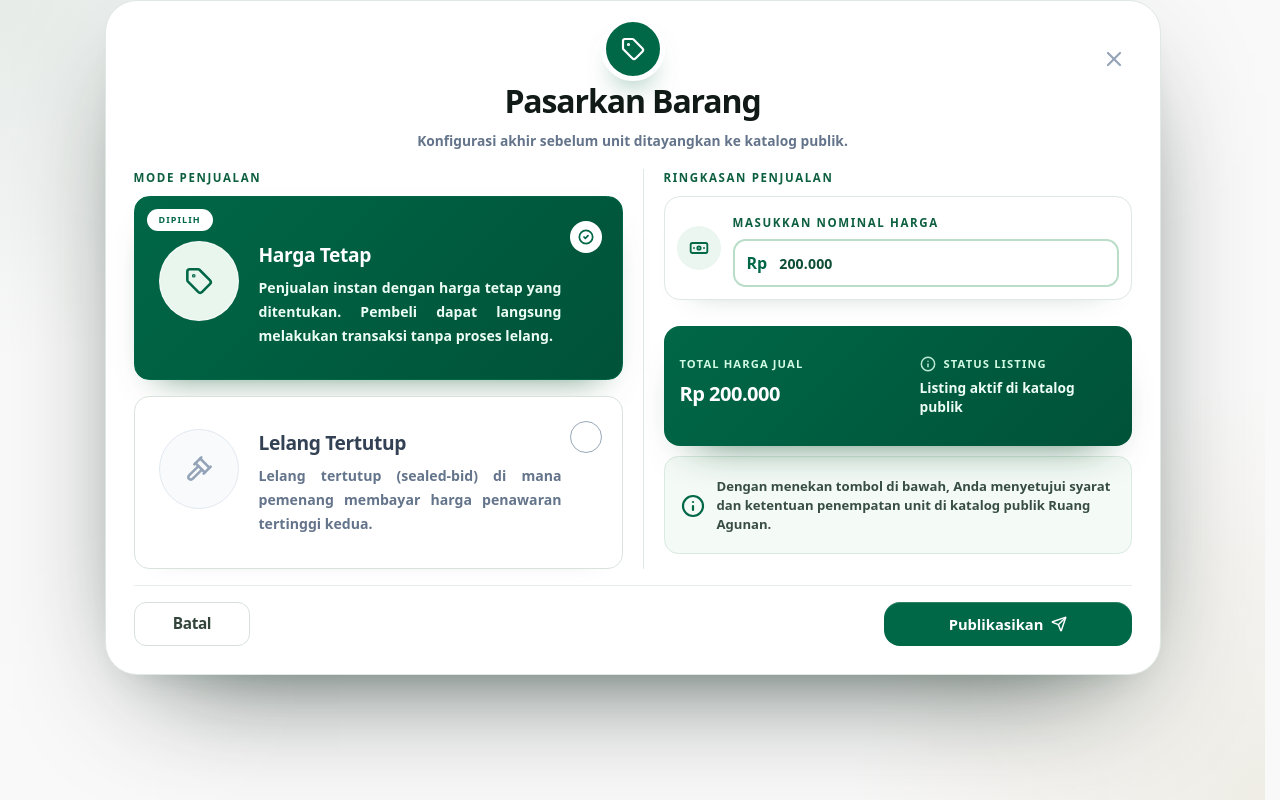
Test: AdminMarketingForm › clamps minute and second fields to valid clock values while typing
The image size is (1280, 800).
Click the button "Lelang Tertutup". click: point(378, 483)
box: x1=134 y1=396 x2=622 y2=569
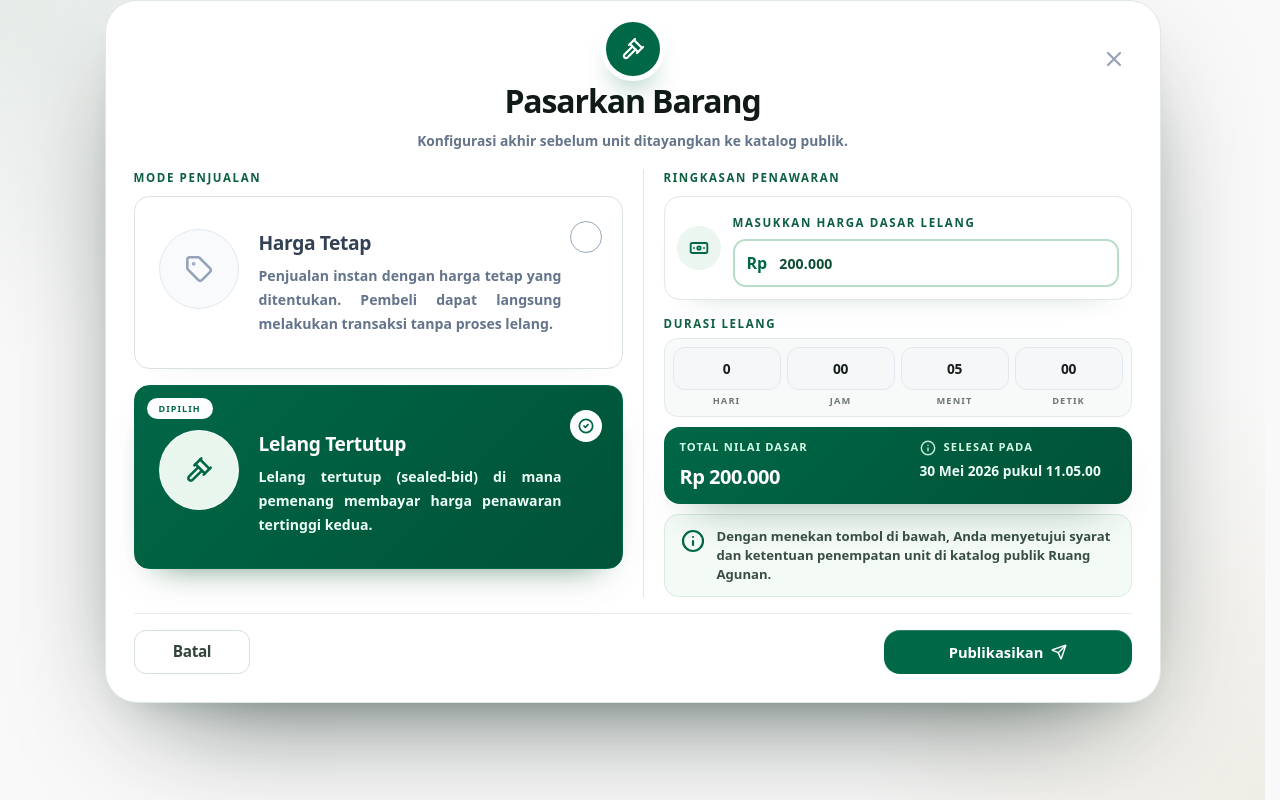
Replace the text in the field labelled "Menit" with "66". click: point(954, 369)
box: x1=900 y1=347 x2=1008 y2=390
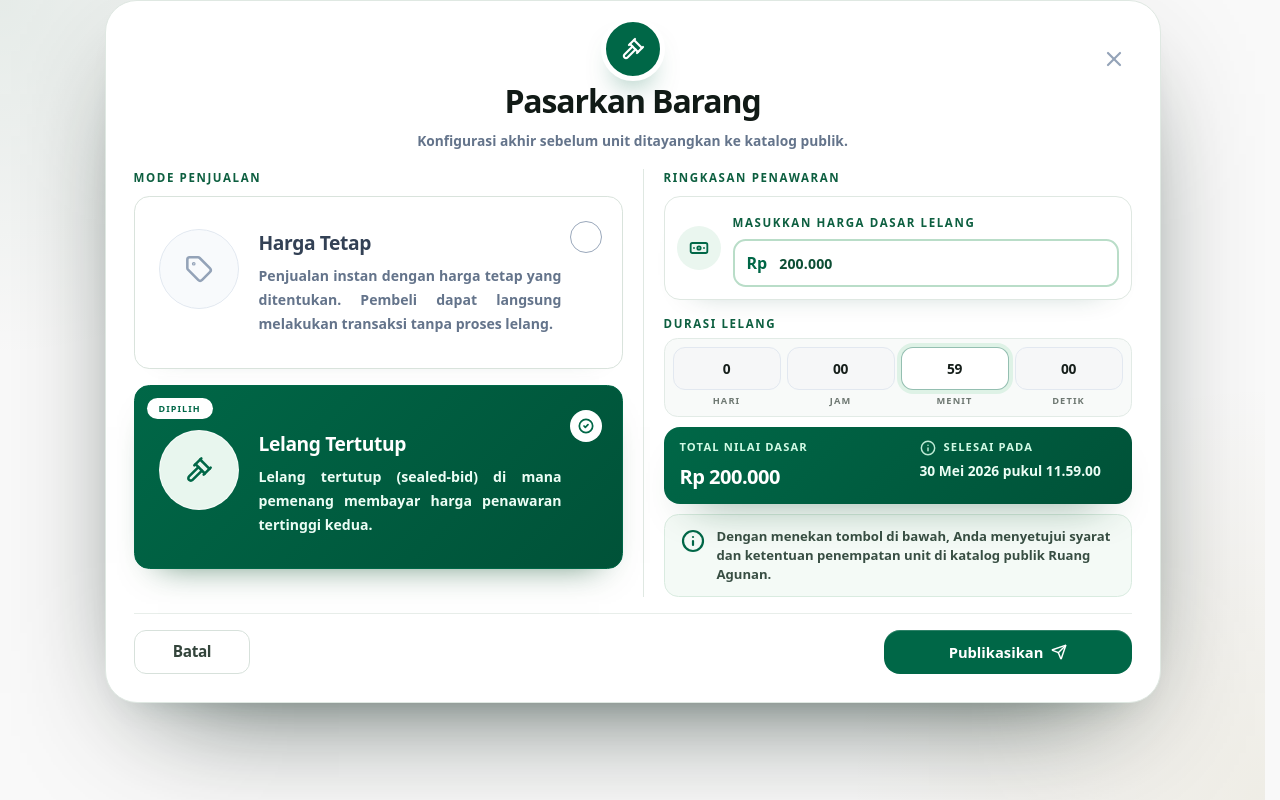
Replace the text in the field labelled "Detik" with "88". click: point(1068, 369)
box: x1=1014 y1=347 x2=1122 y2=390
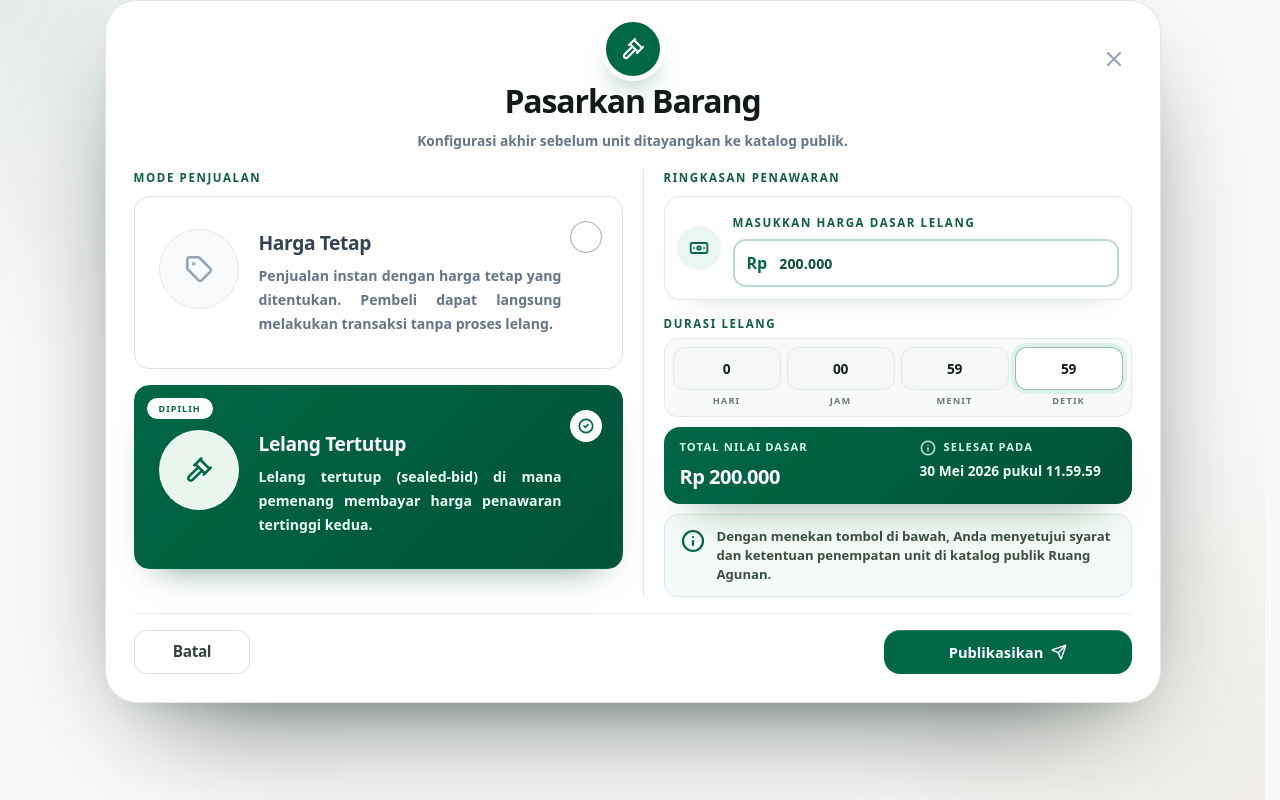
Expected: the field labelled "Menit" holds "59", x1=900 y1=347 x2=1008 y2=390
Expected: the field labelled "Detik" holds "59", x1=1014 y1=347 x2=1122 y2=390
